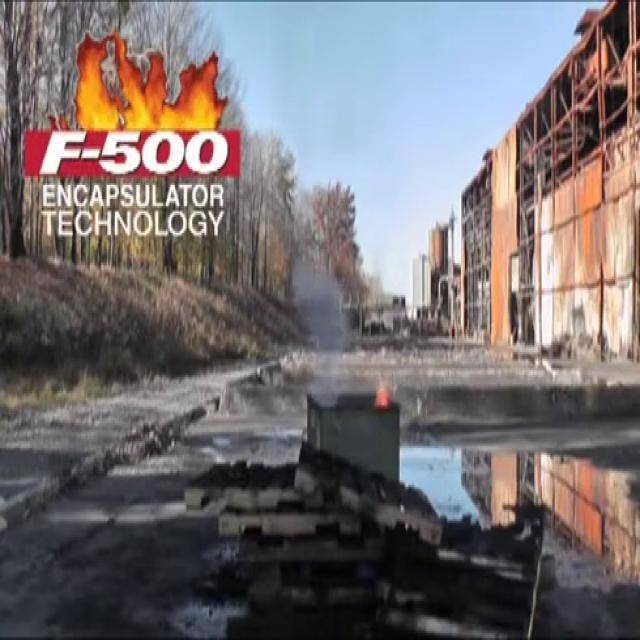Fire: (64, 28, 236, 138), (368, 376, 396, 414)
